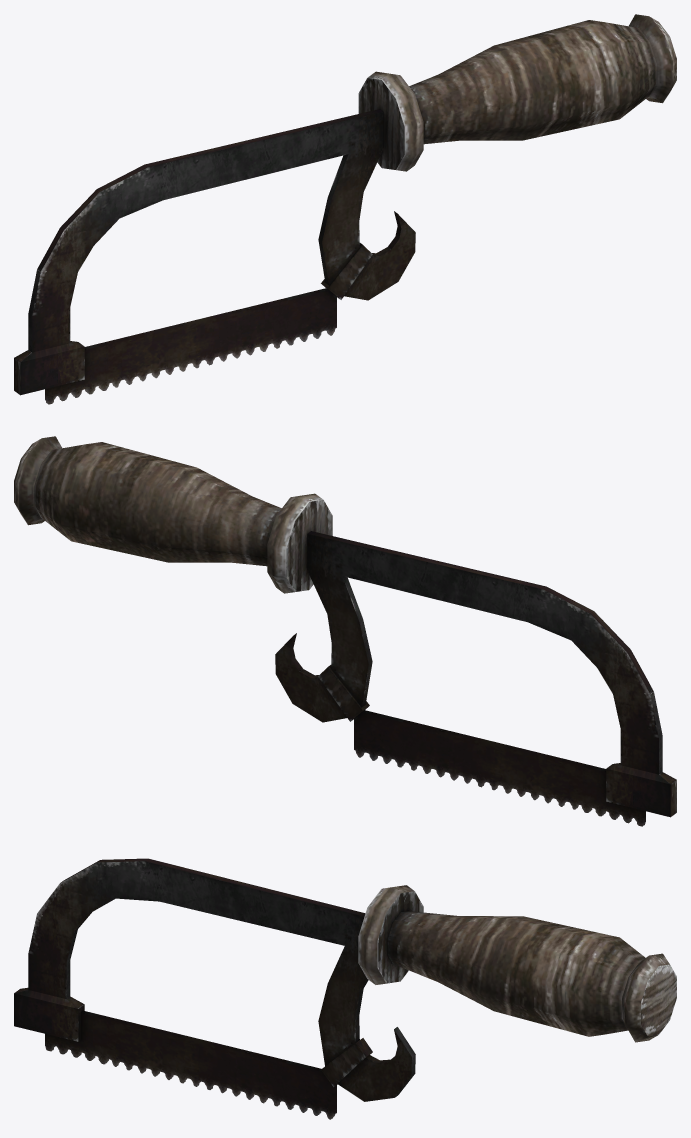
Rendered from bone_saw.dae.
3 renders of one model, top to bottom at view 1: azimuth 30°, elevation 25°; view 2: azimuth 150°, elevation 25°; view 3: azimuth 330°, elevation 25°, orthographic.
Visible parts, largest first — view 1: polySurface1; view 2: polySurface1; view 3: polySurface1.
Part boxes in pixels (x1,y1,x2,y2): polySurface1: [14, 14, 676, 404]; polySurface1: [14, 436, 676, 826]; polySurface1: [14, 858, 676, 1119].
Size of the model in its own units: 0.3741 by 0.1378 by 0.0503.
